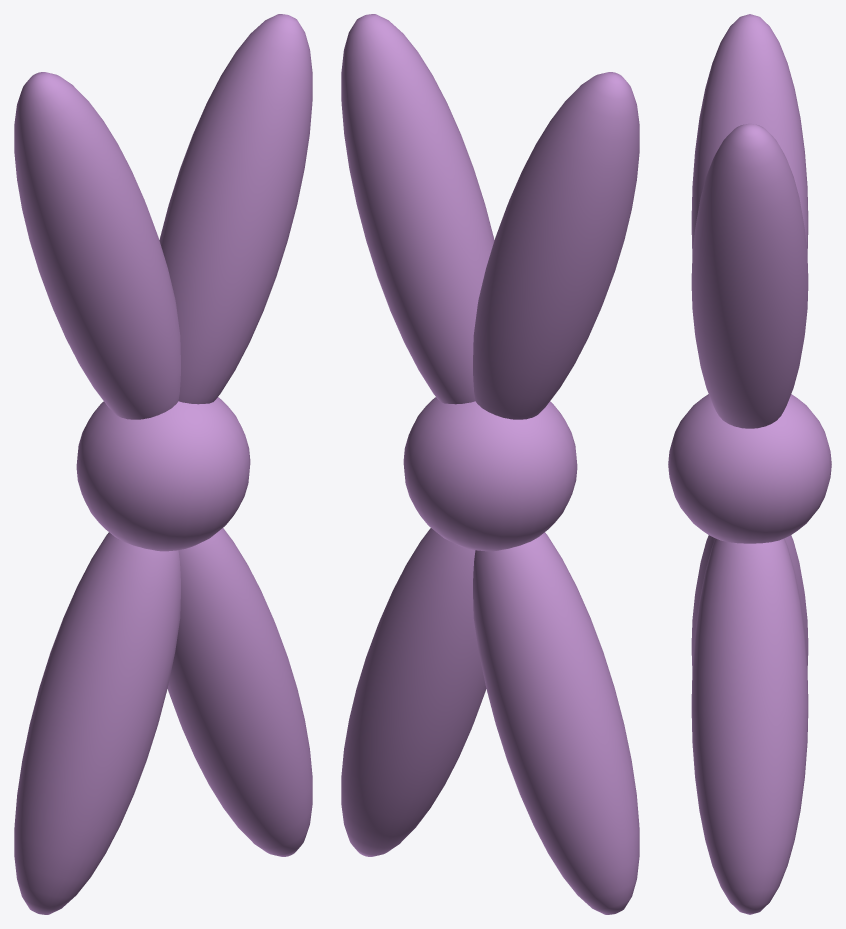
Rendered from chromosome.glb.
3 renders of one model, left to right at view 1: azimuth 30°, elevation 25°; view 2: azimuth 150°, elevation 25°; view 3: azimuth 270°, elevation 25°, orthographic. The views are drawn at different scales.
Parts seen in each view (by area): view 1: Sphere; view 2: Sphere; view 3: Sphere.
Boxes of the visible parts, box(x1,y1,x2,y2) form: Sphere: box(14, 14, 312, 914); Sphere: box(341, 14, 639, 914); Sphere: box(668, 14, 831, 914).
Size of the model in its own units: 0.0574 by 0.16 by 0.0302.
